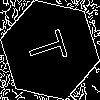T: (25, 25, 77, 68)
